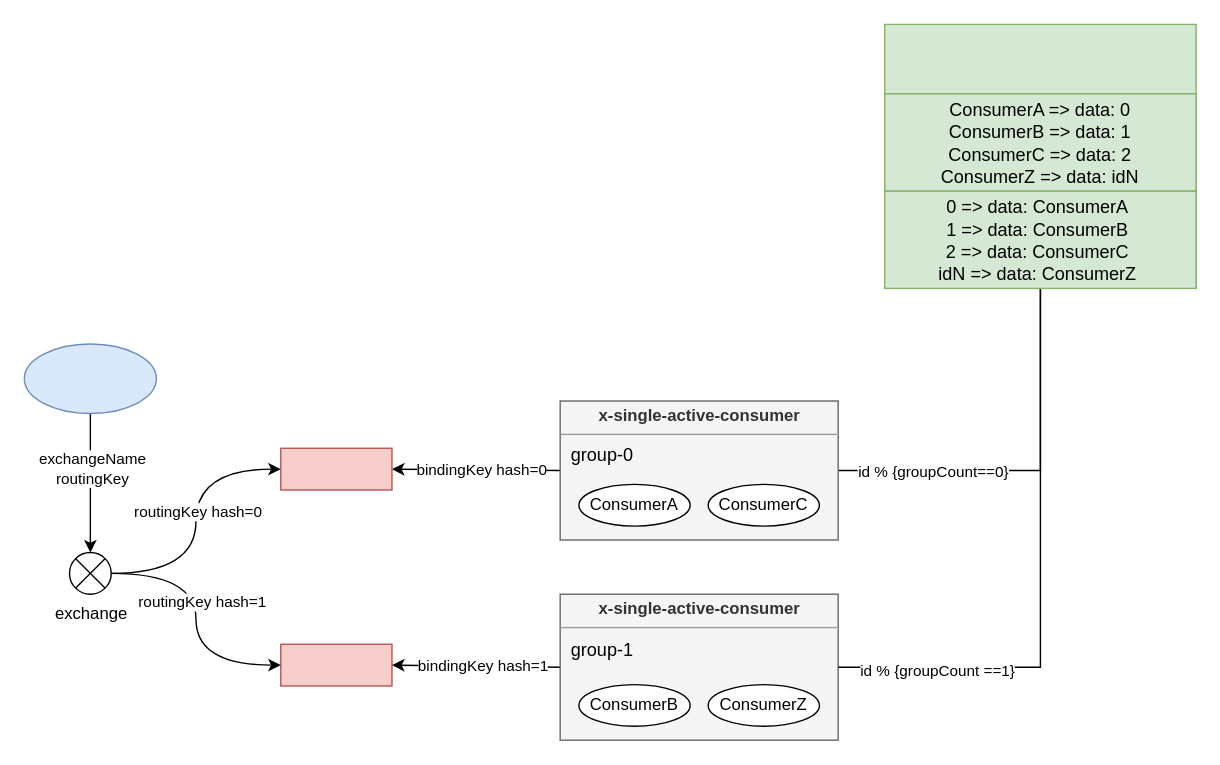
The diagram is 1220 pixels wide and 765 high, and some of its shapes have lost their labels. Here are the shapes that lost their labels. From the top down, the box of each, then its label:
(883, 23, 1196, 288): SequentialReusableIdRegistry
(23, 343, 156, 414): Producer
(279, 447, 392, 490): Queue 0
(279, 643, 392, 686): Queue 1
